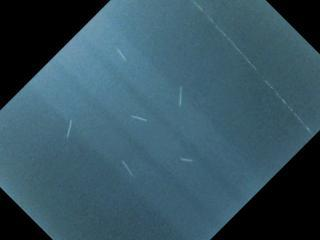crack: (192, 3, 312, 130)
scratch: (176, 131, 203, 165), (126, 107, 151, 130), (116, 157, 139, 182), (174, 83, 187, 113)
